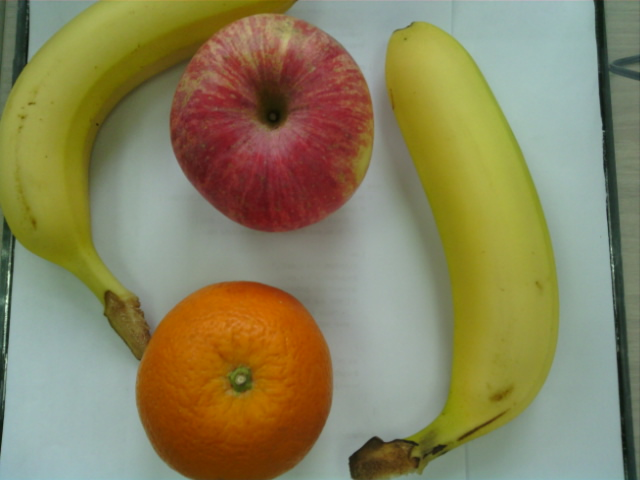normal_apple: (171, 15, 376, 232)
normal_banana: (386, 19, 563, 471), (1, 1, 279, 280)
normal_orange: (140, 279, 334, 480)
